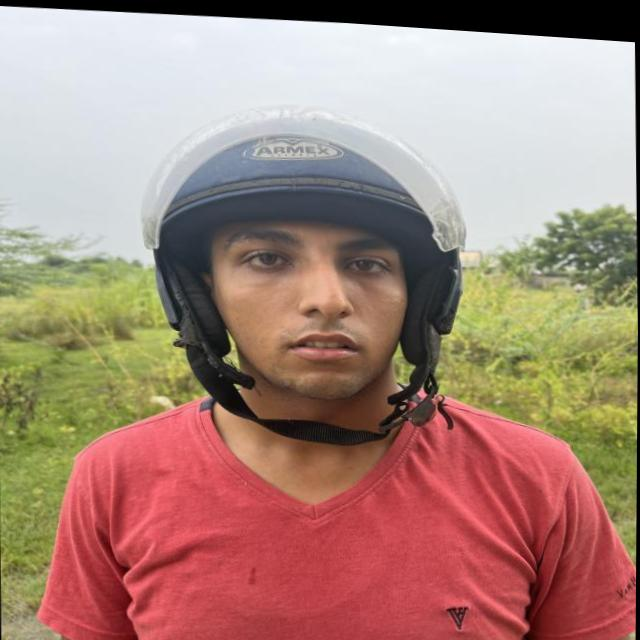helmet: (140, 90, 470, 454)
